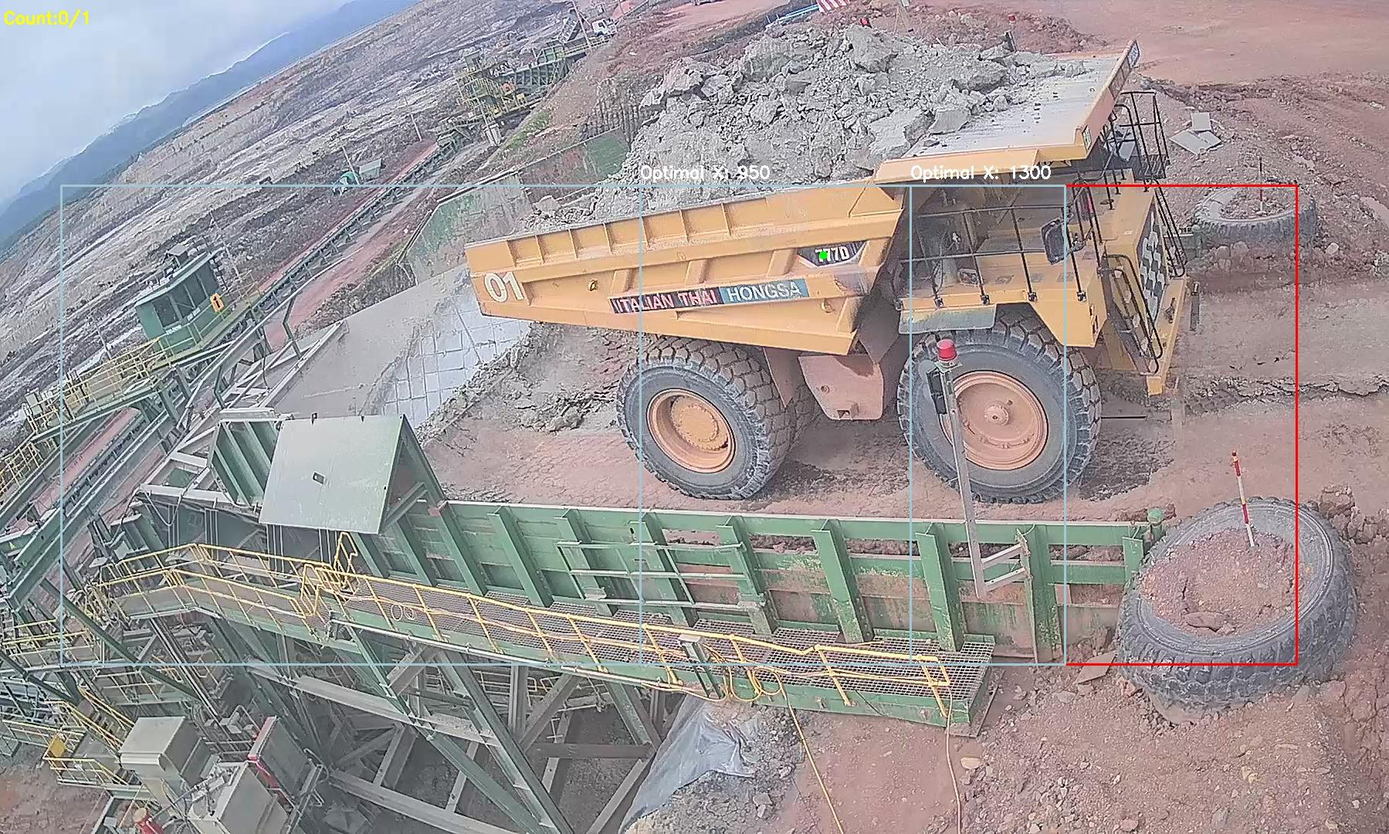company: (600, 278, 822, 316)
full_load: (621, 24, 901, 207)
mining_truck: (454, 17, 1214, 507)
tail_number: (476, 259, 532, 314)
truck_size: (794, 235, 871, 271)
